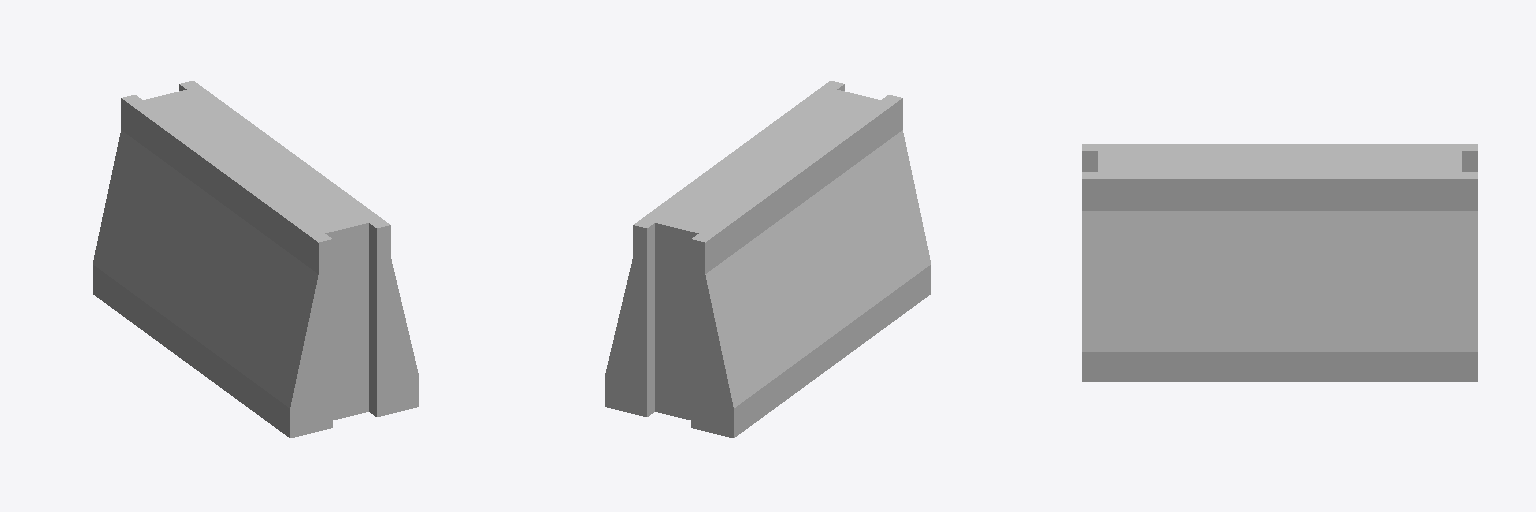
File: construction_barrier.obj
The picture shows the model from 3 angles: view 1: azimuth 30°, elevation 25°; view 2: azimuth 150°, elevation 25°; view 3: azimuth 270°, elevation 25°; orthographic projection.
Visible parts, largest first — view 1: construction_barrier; view 2: construction_barrier; view 3: construction_barrier.
Boxes of the visible parts, x1=… form: construction_barrier: x1=93, y1=81, x2=418, y2=437; construction_barrier: x1=605, y1=81, x2=930, y2=437; construction_barrier: x1=1082, y1=144, x2=1477, y2=381.
Size of the model in its own units: 0.085 by 0.1187 by 0.225.